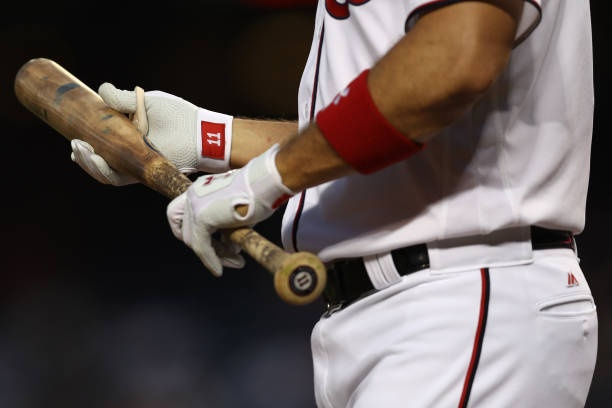bita: (13, 61, 322, 308)
